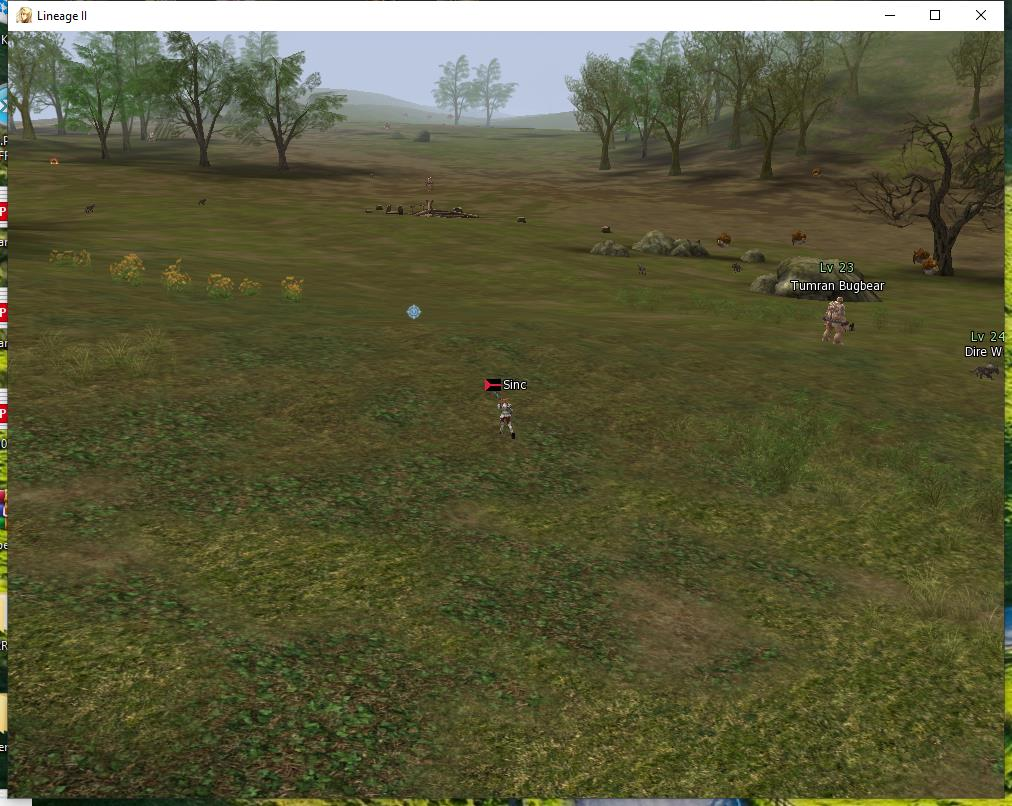monster: (786, 246, 888, 357), (964, 320, 1002, 389), (907, 239, 945, 282), (711, 230, 738, 246)
